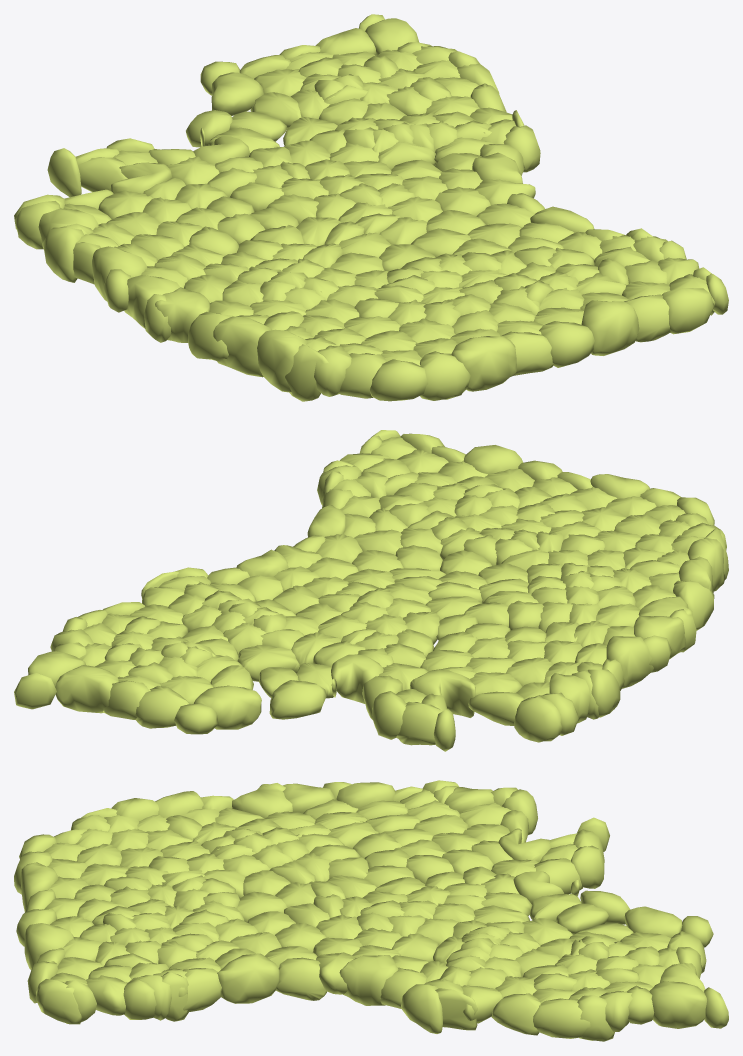
Rendered from Islands3.001_fog.fbx.
3 views of the same model, one above another, from view 1: azimuth 30°, elevation 25°; view 2: azimuth 150°, elevation 25°; view 3: azimuth 270°, elevation 25° (orthographic). The views are drawn at different scales.
Parts seen in each view (by area): view 1: Island3.001_fog_cell.052, Island3.001_fog_cell.153, Island3.001_fog_cell.201, Island3.001_fog_cell.155, Island3.001_fog_cell.157, Island3.001_fog_cell.106, Island3.001_fog_cell.223, Island3.001_fog_cell.111, Island3.001_fog_cell.199, Island3.001_fog_cell.227, Island3.001_fog_cell.191, Island3.001_fog_cell.064 (+104 smaller); view 2: Island3.001_fog_cell.056, Island3.001_fog_cell.227, Island3.001_fog_cell.001, Island3.001_fog_cell.116, Island3.001_fog_cell.042, Island3.001_fog_cell.197, Island3.001_fog_cell.112, Island3.001_fog_cell.091, Island3.001_fog_cell.075, Island3.001_fog_cell.038, Island3.001_fog_cell.210, Island3.001_fog_cell.121 (+126 smaller); view 3: Island3.001_fog_cell.147, Island3.001_fog_cell.122, Island3.001_fog_cell.014, Island3.001_fog_cell.097, Island3.001_fog_cell.080, Island3.001_fog_cell.160, Island3.001_fog_cell.094, Island3.001_fog_cell.088, Island3.001_fog_cell.194, Island3.001_fog_cell.153, Island3.001_fog_cell.227, Island3.001_fog_cell.199 (+161 smaller).
Boxes of the visible parts, <box> form: Island3.001_fog_cell.052: <box>451,336,516,391</box>; Island3.001_fog_cell.153: <box>581,300,639,355</box>; Island3.001_fog_cell.201: <box>213,316,271,377</box>; Island3.001_fog_cell.155: <box>257,329,307,392</box>; Island3.001_fog_cell.157: <box>370,359,427,401</box>; Island3.001_fog_cell.106: <box>420,351,470,400</box>; Island3.001_fog_cell.223: <box>539,321,594,367</box>; Island3.001_fog_cell.111: <box>662,288,713,334</box>; Island3.001_fog_cell.199: <box>155,287,210,342</box>; Island3.001_fog_cell.227: <box>211,72,263,115</box>; Island3.001_fog_cell.191: <box>43,227,84,282</box>; Island3.001_fog_cell.064: <box>501,331,553,375</box>; Island3.001_fog_cell.056: <box>55,665,118,713</box>; Island3.001_fog_cell.227: <box>193,685,261,729</box>; Island3.001_fog_cell.001: <box>410,670,475,717</box>; Island3.001_fog_cell.116: <box>269,680,326,719</box>; Island3.001_fog_cell.042: <box>514,695,562,742</box>; Island3.001_fog_cell.197: <box>606,636,653,688</box>; Island3.001_fog_cell.112: <box>331,654,383,703</box>; Island3.001_fog_cell.091: <box>135,686,189,728</box>; Island3.001_fog_cell.075: <box>396,701,441,745</box>; Island3.001_fog_cell.038: <box>237,645,299,681</box>; Island3.001_fog_cell.210: <box>468,691,524,725</box>; Island3.001_fog_cell.121: <box>634,616,685,659</box>; Island3.001_fog_cell.147: <box>217,953,279,1003</box>; Island3.001_fog_cell.122: <box>649,981,706,1028</box>; Island3.001_fog_cell.014: <box>339,955,398,1005</box>; Island3.001_fog_cell.097: <box>533,998,590,1038</box>; Island3.001_fog_cell.080: <box>275,957,326,1000</box>; Island3.001_fog_cell.160: <box>401,984,442,1033</box>; Island3.001_fog_cell.094: <box>35,979,82,1024</box>; Island3.001_fog_cell.088: <box>491,993,541,1035</box>; Island3.001_fog_cell.194: <box>182,968,221,1012</box>; Island3.001_fog_cell.153: <box>24,923,73,969</box>; Island3.001_fog_cell.227: <box>624,906,682,937</box>; Island3.001_fog_cell.199: <box>232,784,292,818</box>.
Size of the model in its own units: 113 by 11.46 by 148.
